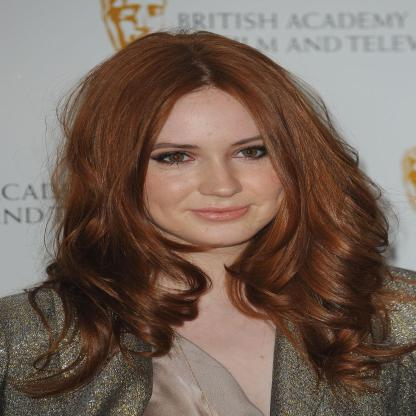long-hair: (37, 249, 395, 293)
